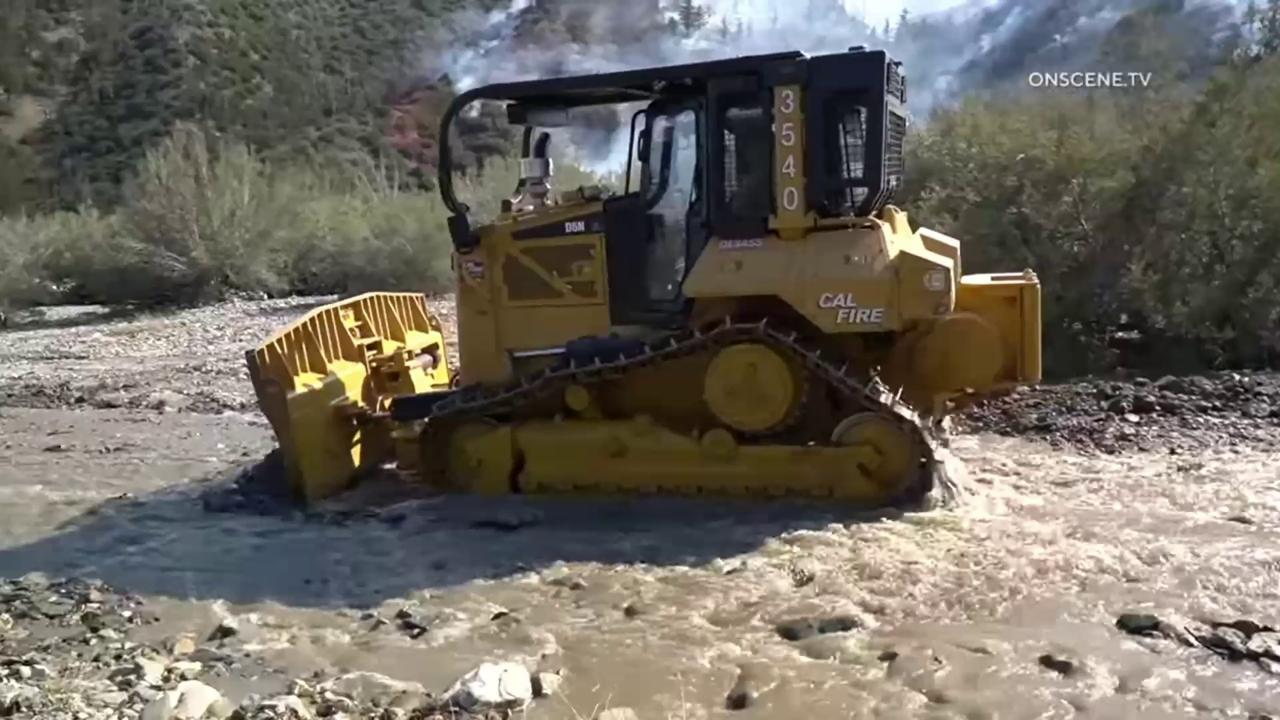smoke: (437, 0, 1280, 182)
